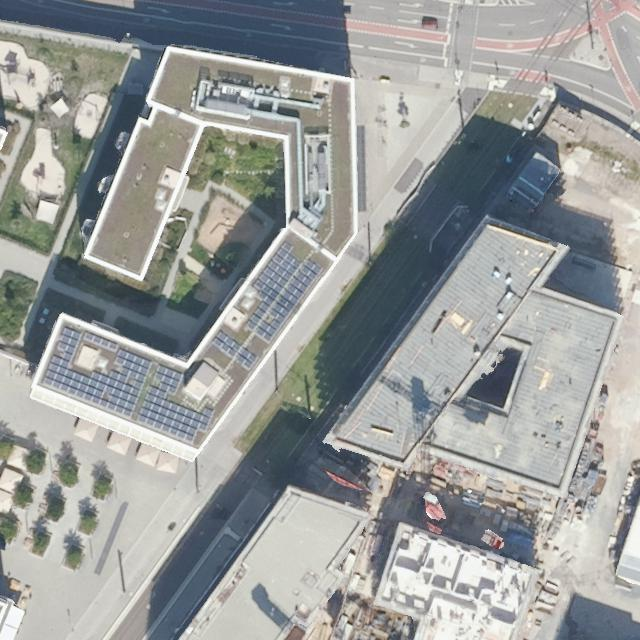PV: (38, 321, 154, 423), (244, 237, 327, 348), (134, 361, 216, 447), (211, 327, 261, 373)
